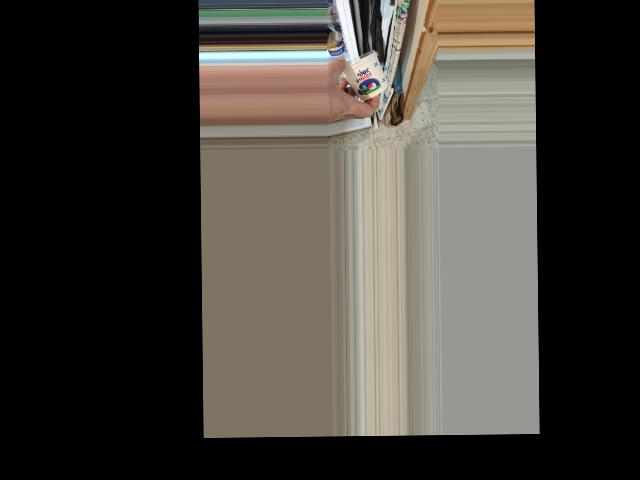cotage: (344, 48, 387, 98)
